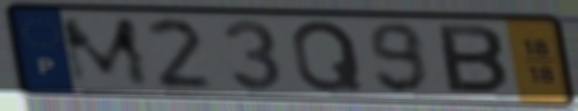2: (141, 15, 216, 90)
3: (219, 16, 284, 94)
9: (366, 19, 435, 96)
B: (434, 21, 512, 98)
M: (55, 15, 155, 88)
Q: (288, 18, 368, 95)
